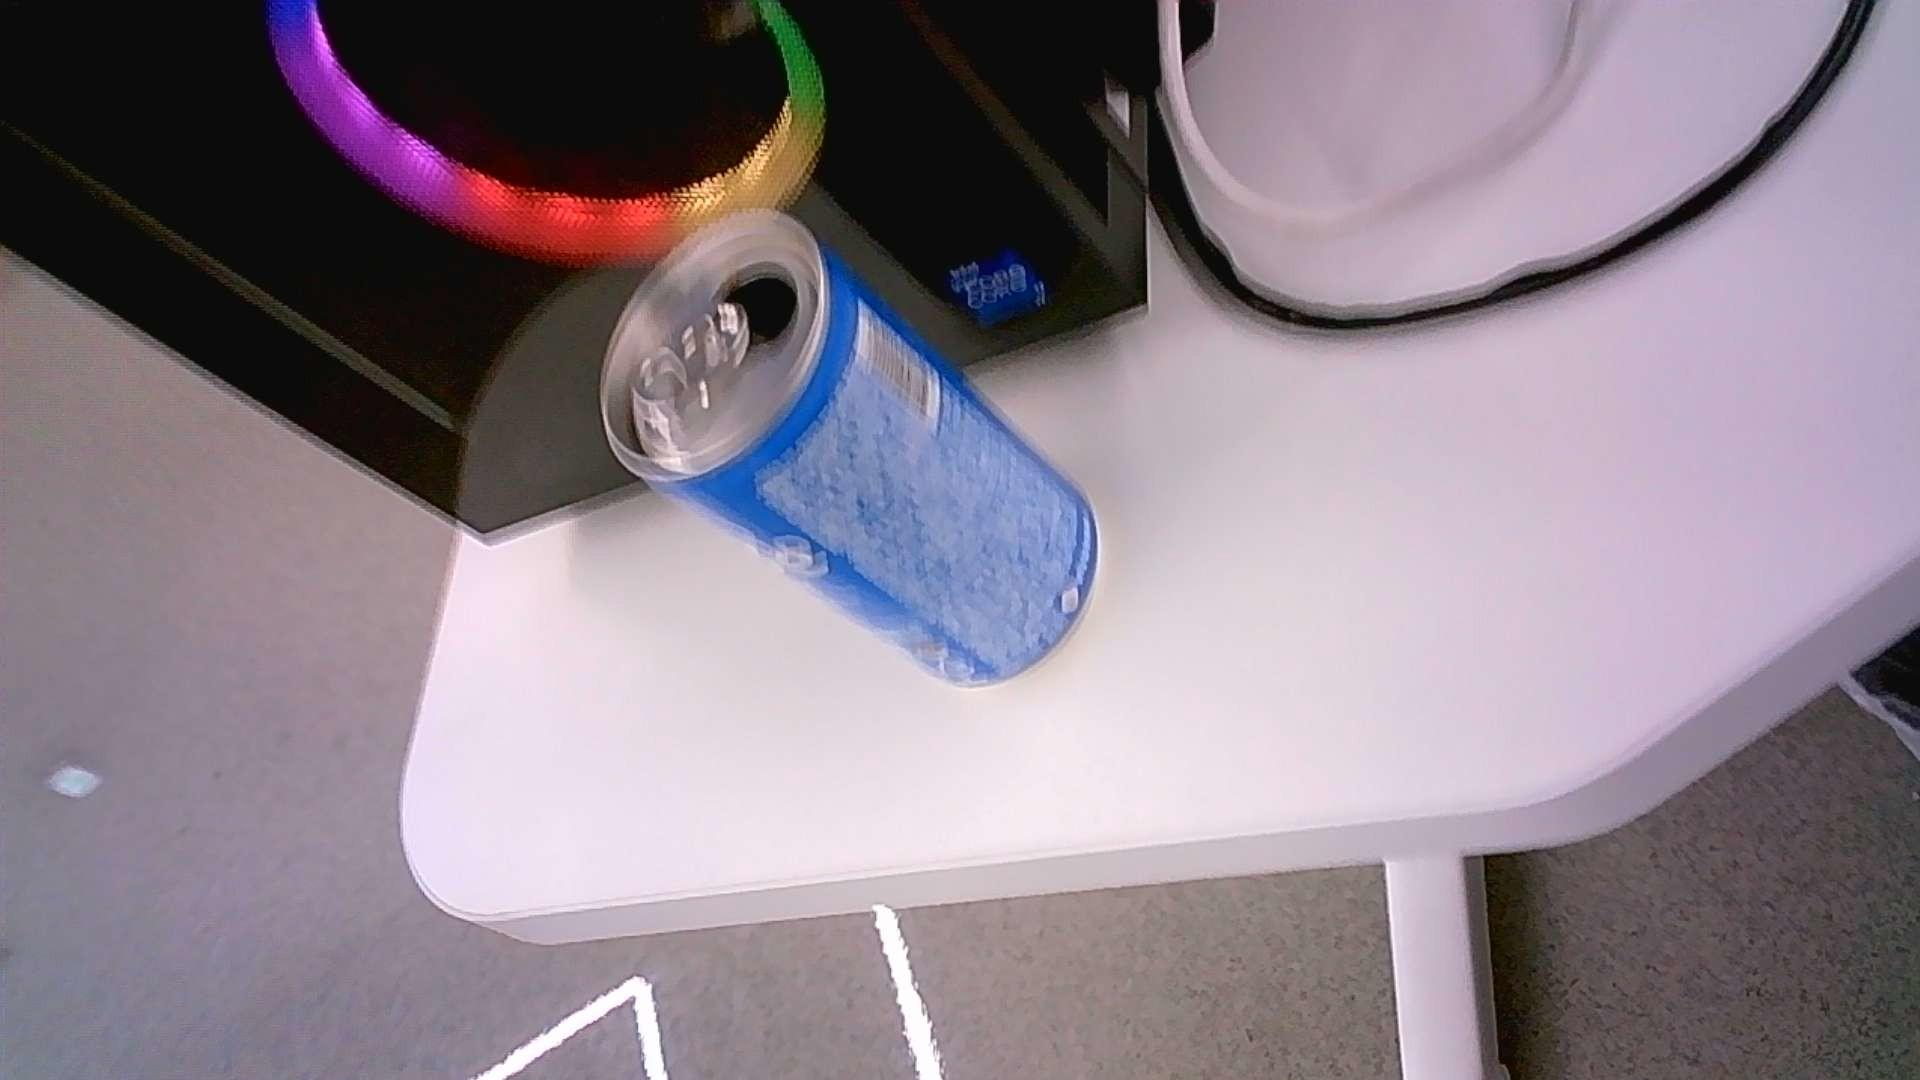letsbe: (599, 206, 1101, 688)
